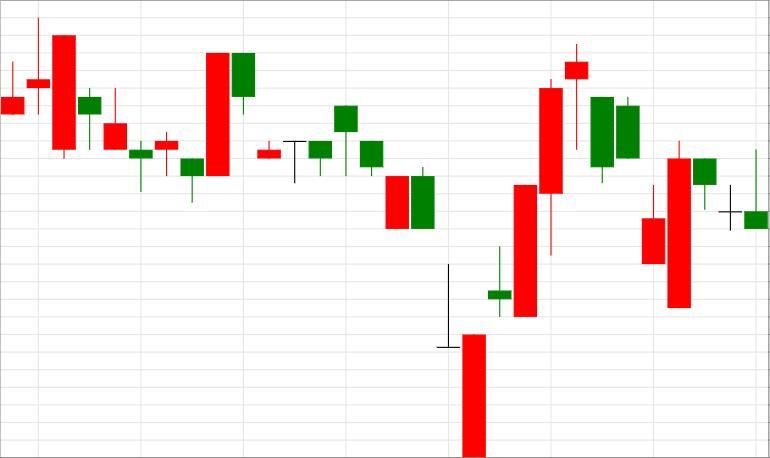evening_star_fall: (463, 44, 614, 457)
